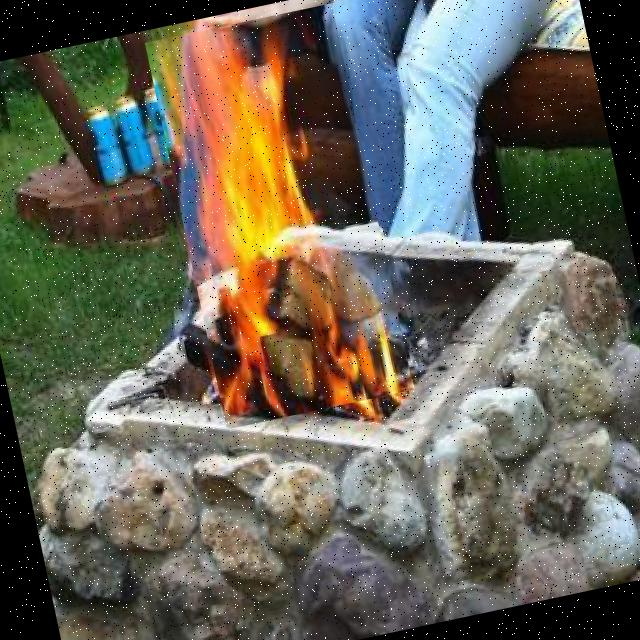fire: (144, 3, 413, 429)
